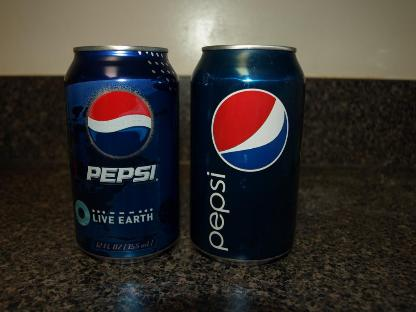Can: (182, 40, 309, 266), (61, 36, 186, 260)
